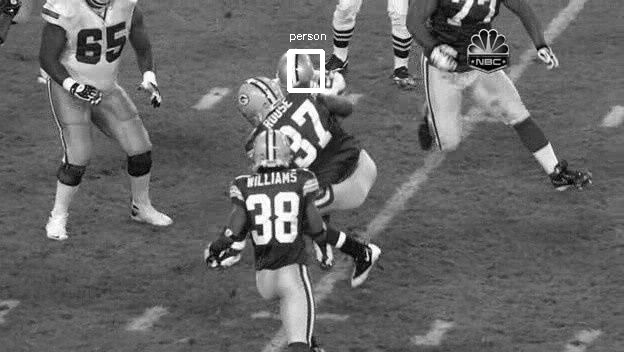person: (277, 53, 310, 95), (276, 53, 309, 95), (278, 53, 311, 95), (277, 52, 310, 94), (277, 54, 310, 96)
target_negative: (331, 41, 604, 313), (371, 48, 563, 343), (408, 180, 602, 331), (424, 94, 595, 265), (474, 156, 540, 286), (217, 219, 432, 246)
